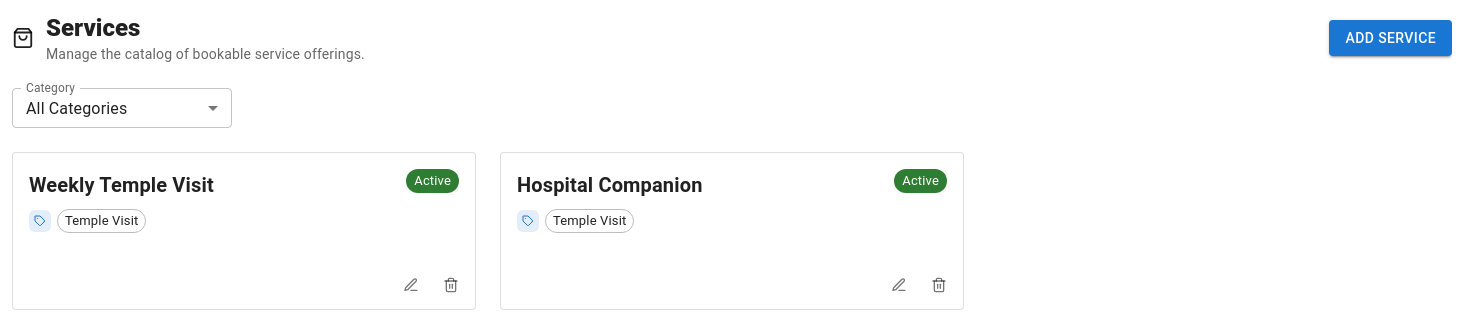
Test: ServiceOfferingListingTemplate › populates the category filter dropdown from useServiceCategoryService
The width and height of the screenshot is (1464, 327).
Click the dropdown named "Category" at (77, 108), box [26,98,127,118]
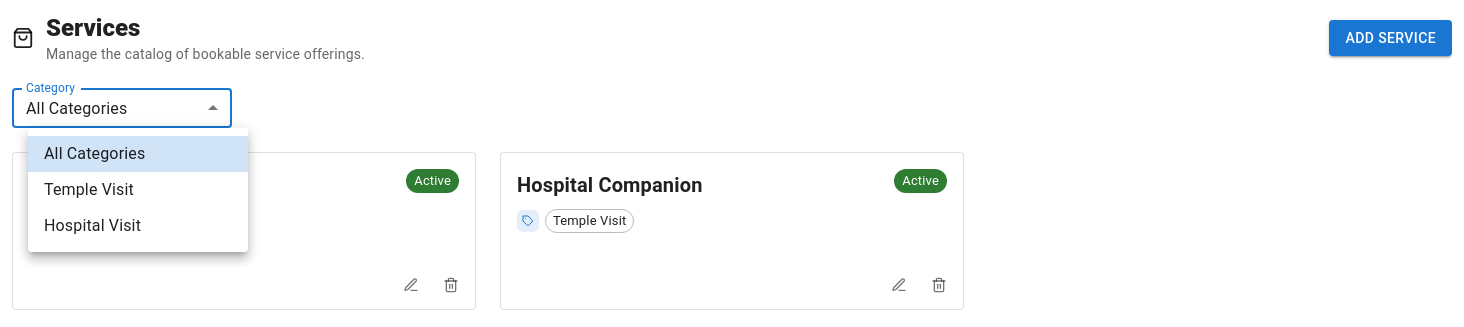
Now the option "Hospital Visit" is shown, box [44,216,141,235]
